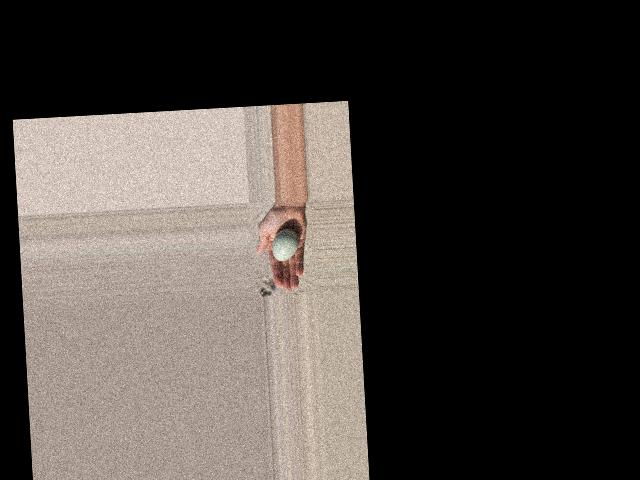egg: (271, 229, 300, 262)
